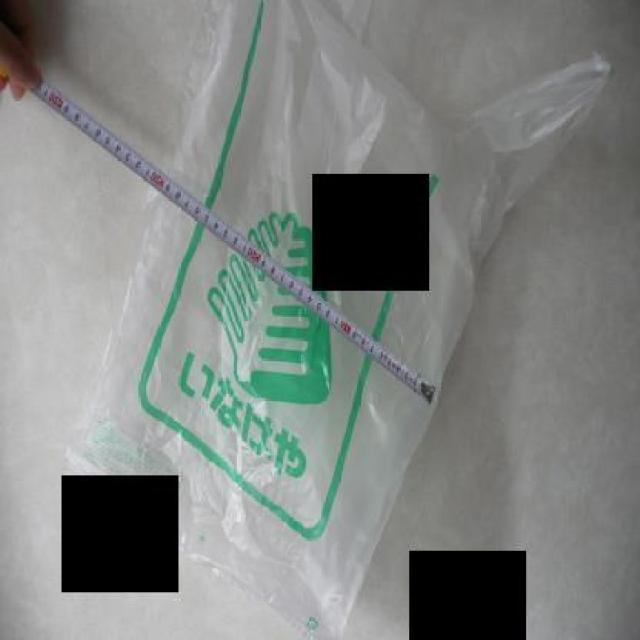plastic bag: (64, 0, 609, 638)
